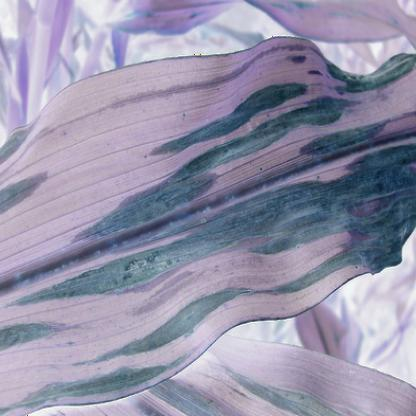Corn leaf blight: (8, 52, 415, 352)
